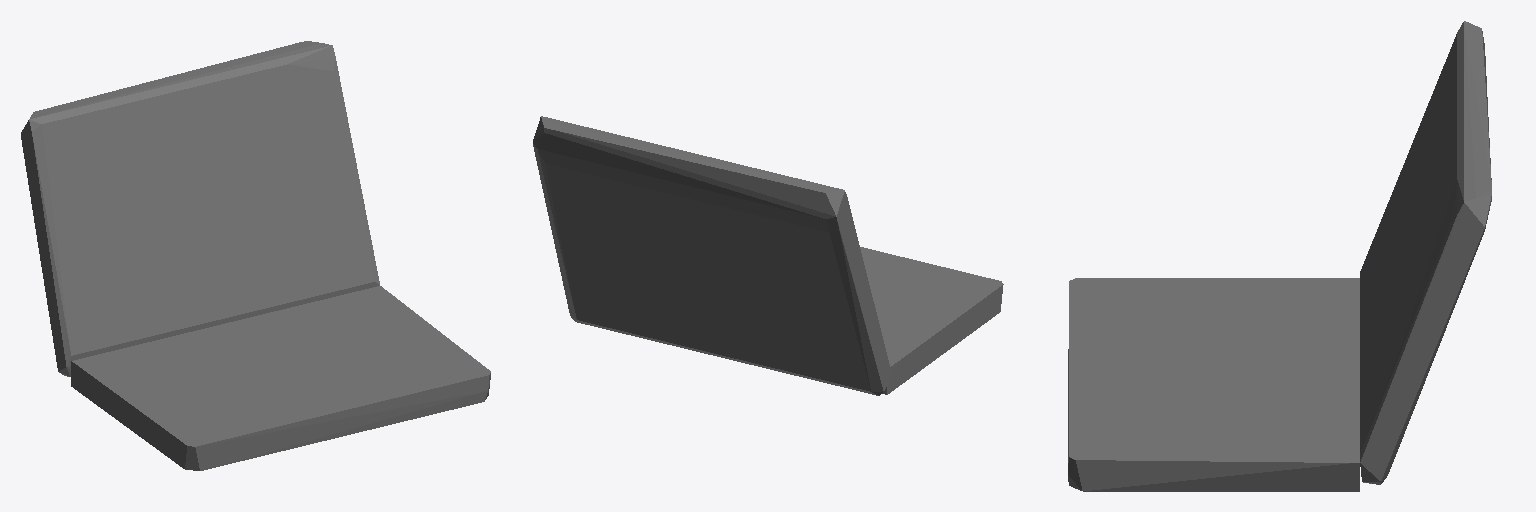
URDF robot description (notebook_020):
<?xml version="1.0" ?>
<robot name="notebook_020">
  <material name="color">
    <color rgba=".5 .5 .5 1"/>
  </material>

  <link name="base_link">
    <contact>
      <lateral_friction value="1.0"/>
      <rolling_friction value="0.001"/>
      <spinning_friction value="0.001"/>
      <inertia_scaling value="1.0"/>
    </contact>
    <inertial>
      <origin rpy="0 0 0" xyz="1.64343e-05 0.032037 -0.0495556"/>
       <mass value="0.1"/>
       <inertia ixx="1" ixy="0" ixz="0" iyy="1" iyz="0" izz="1"/>
    </inertial>

    <visual>
      <origin rpy="0 0 0" xyz="0 0 0"/>
      <geometry>
        <mesh filename="notebook_020_vhacd_0_of_2.obj" scale="1 1 1"/>
      </geometry>
      <material name="color"/>
    </visual>
    <visual>
      <origin rpy="0 0 0" xyz="0 0 0"/>
      <geometry>
        <mesh filename="notebook_020_vhacd_1_of_2.obj" scale="1 1 1"/>
      </geometry>
      <material name="color"/>
    </visual>

    <collision>
      <origin rpy="0 0 0" xyz="0 0 0"/>
      <geometry>
        <mesh filename="notebook_020_vhacd_0_of_2.obj" scale="1 1 1"/>
      </geometry>
    </collision>
    <collision>
      <origin rpy="0 0 0" xyz="0 0 0"/>
      <geometry>
        <mesh filename="notebook_020_vhacd_1_of_2.obj" scale="1 1 1"/>
      </geometry>
    </collision>

  </link>
</robot>

--- Facts derived from the render (not from the file) ---
The picture shows the robot from 3 angles, left to right: view 1: azimuth 30°, elevation 25°; view 2: azimuth 150°, elevation 25°; view 3: azimuth 270°, elevation 25°; orthographic projection.
Robot: notebook_020 — 1 links, 0 joints (none); root link base_link; default pose: all joints at 0.
Visible links, largest first — view 1: base_link; view 2: base_link; view 3: base_link.
Link boxes in pixels (x1,y1,x2,y2): base_link: (21, 41, 490, 470); base_link: (533, 116, 1003, 395); base_link: (1068, 21, 1491, 491).
Size in the robot's own frame: 0.3012 by 0.2875 by 0.2168 metres.
2 mesh visuals loaded from 2 distinct referenced files (2 OBJ).